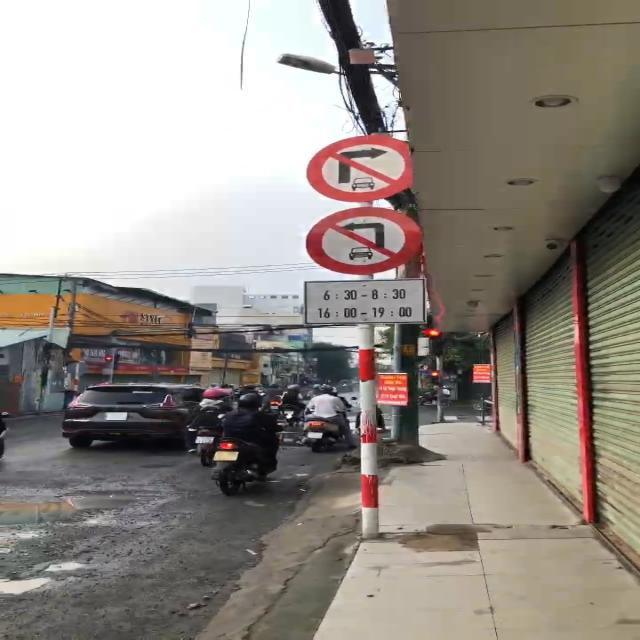Bien bao cam xe o to re phai: (302, 132, 428, 208)
Bien bao cam xe o to re trai: (299, 206, 437, 278)
